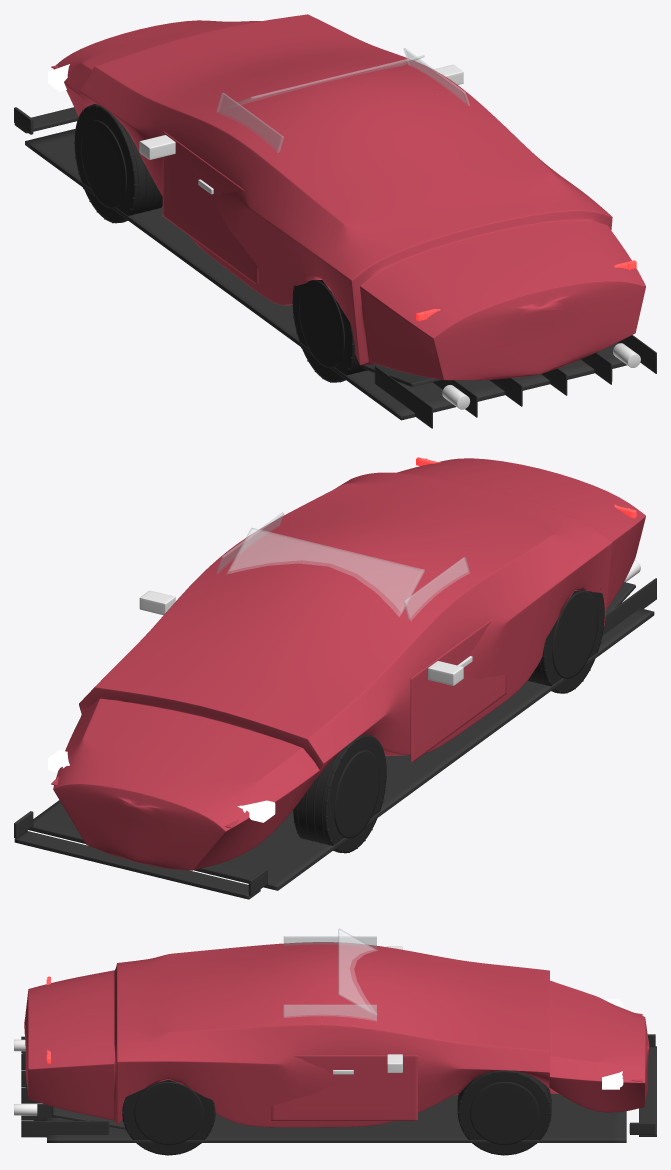
File: Car_Jaguar_XK8_Convertible_X100_2000s_Complete.glb
3 views of the same model, one above another, from view 1: azimuth 30°, elevation 25°; view 2: azimuth 150°, elevation 25°; view 3: azimuth 270°, elevation 25° (orthographic). The views are drawn at different scales.
Parts seen in each view (by area): view 1: BODY_MainShell, UNDERBODY_FlatFloor, WHEEL_FL_Tire, BODY_Door_FL, WHEEL_RL_Tire, GLASS_Greenhouse, JEWELRY_Hardware, AERO_FrontSplitter, JEWELRY_XK8_DualExhaust; view 2: BODY_MainShell, UNDERBODY_FlatFloor, GLASS_Greenhouse, WHEEL_FL_Tire, BODY_Door_FL, WHEEL_RL_Tire, AERO_FrontSplitter, JEWELRY_Hardware, LIGHTING_Headlamps; view 3: BODY_MainShell, UNDERBODY_FlatFloor, BODY_Door_FR, WHEEL_FR_Tire, WHEEL_RR_Tire, GLASS_Greenhouse, AERO_FrontSplitter, JEWELRY_Hardware, JEWELRY_XK8_DualExhaust, LIGHTING_Headlamps.
Part boxes in pixels (x1,y1,x2,y2): BODY_MainShell: (54,14,645,380); UNDERBODY_FlatFloor: (25,129,656,428); WHEEL_FL_Tire: (74,104,162,223); BODY_Door_FL: (162,131,258,285); WHEEL_RL_Tire: (292,280,367,382); GLASS_Greenhouse: (216,48,469,152); JEWELRY_Hardware: (139,64,463,194); AERO_FrontSplitter: (14,107,78,134); JEWELRY_XK8_DualExhaust: (442,343,640,409); BODY_MainShell: (53,458,645,870); UNDERBODY_FlatFloor: (29,578,656,890); GLASS_Greenhouse: (216,512,469,620); WHEEL_FL_Tire: (293,734,387,853); BODY_Door_FL: (410,618,506,763); WHEEL_RL_Tire: (528,588,605,693); AERO_FrontSplitter: (14,811,267,899); JEWELRY_Hardware: (139,590,472,685); LIGHTING_Headlamps: (48,750,275,822); BODY_MainShell: (24,942,649,1127); UNDERBODY_FlatFloor: (21,1036,626,1142); BODY_Door_FR: (271,1055,417,1120); WHEEL_FR_Tire: (457,1070,551,1155); WHEEL_RR_Tire: (122,1079,215,1155); GLASS_Greenhouse: (283,928,377,1020); AERO_FrontSplitter: (629,1034,656,1136); JEWELRY_Hardware: (333,946,402,1074); JEWELRY_XK8_DualExhaust: (14,1039,37,1115); LIGHTING_Headlamps: (602,999,623,1089).
Size of what is drawn, in the model's own units: 2.16 by 1.26 by 4.96.
